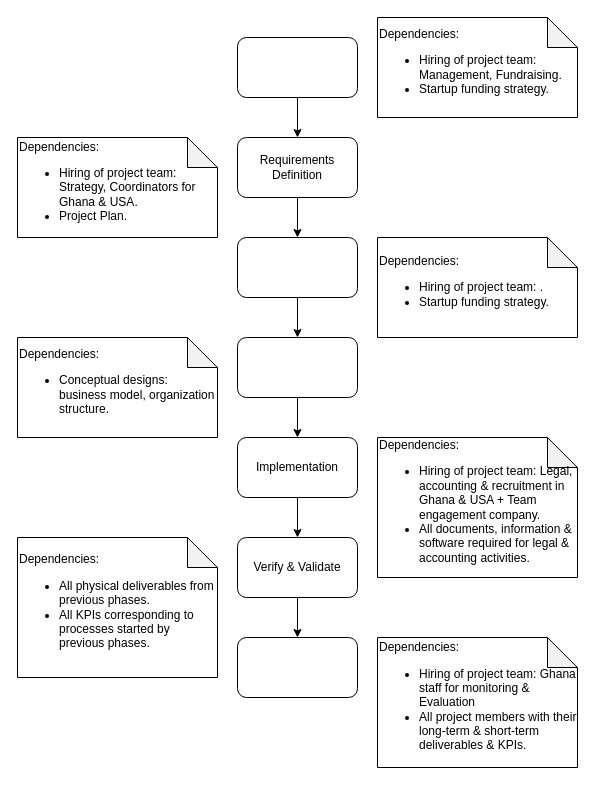
Image size: 595x785. Some labels were removed from this diagram. Here are the shapes that lost their labels. From the top down, the box of each, then its label:
(236, 36, 358, 98): Project Kickoff
(236, 236, 358, 298): Conceptual Design
(236, 336, 358, 398): Detailed Design
(236, 636, 358, 698): Project Conclusion
